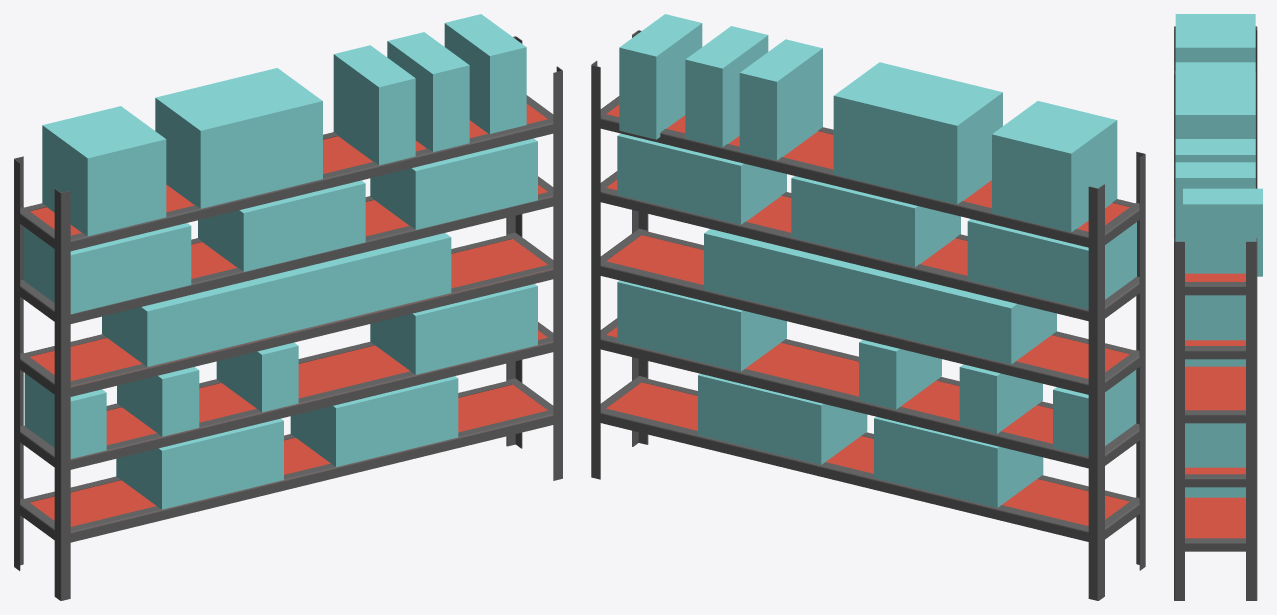
File: Pratilheira.fbx
3 renders of one model, left to right at view 1: azimuth 30°, elevation 25°; view 2: azimuth 150°, elevation 25°; view 3: azimuth 270°, elevation 25°, orthographic. The views are drawn at different scales.
Visible parts, largest first — view 1: Laterais, Caixa.012, Caixa.001, Pés, Caixa, Caixa.006, Caixa.007, Caixa.014, Caixa.011, Caixa.013, Caixa.005, Caixa.002 (+11 smaller); view 2: Laterais, Caixa.012, Caixa.001, Pés, Caixa, Caixa.006, Caixa.007, Caixa.011, Caixa.013, Caixa.014, Caixa.005, Caixa.002 (+11 smaller); view 3: Pés, Caixa.004, Caixa.001, Pontas, Caixa, Caixa.007, Apoio3, Caixa.011, Caixa.003, Apoio1, Caixa.002, Caixa.014 (+5 smaller).
Boxes of the visible parts, x1,y1,x2,y2 form: Laterais: (25, 119, 553, 542); Caixa.012: (102, 233, 451, 366); Caixa.001: (155, 68, 322, 208); Pés: (14, 36, 562, 600); Caixa: (42, 106, 166, 236); Caixa.006: (198, 180, 365, 271); Caixa.007: (370, 138, 537, 229); Caixa.014: (290, 376, 458, 466); Caixa.011: (370, 284, 537, 374); Caixa.013: (116, 418, 283, 509); Caixa.005: (23, 223, 191, 313); Caixa.002: (333, 45, 415, 165); Laterais: (600, 114, 1134, 541); Caixa.012: (704, 229, 1056, 364); Caixa.001: (833, 62, 1002, 204); Pés: (591, 30, 1145, 600); Caixa: (992, 101, 1117, 232); Caixa.006: (791, 176, 960, 267); Caixa.007: (617, 133, 786, 224); Caixa.011: (617, 280, 786, 371); Caixa.013: (874, 416, 1043, 507); Caixa.014: (698, 373, 867, 464); Caixa.005: (967, 219, 1136, 309); Caixa.002: (739, 39, 822, 160); Pés: (1174, 26, 1257, 600); Caixa.004: (1183, 188, 1262, 276); Caixa.001: (1175, 62, 1255, 138); Pontas: (1174, 71, 1256, 551); Caixa: (1175, 14, 1255, 62); Caixa.007: (1185, 295, 1245, 340); Apoio3: (1185, 366, 1245, 410); Caixa.011: (1185, 423, 1245, 467); Caixa.003: (1175, 162, 1255, 241); Apoio1: (1185, 497, 1245, 538); Caixa.002: (1175, 139, 1255, 162); Caixa.014: (1185, 487, 1245, 497).
Bounding box in the file's own units: 322 × 267 × 56.15.
